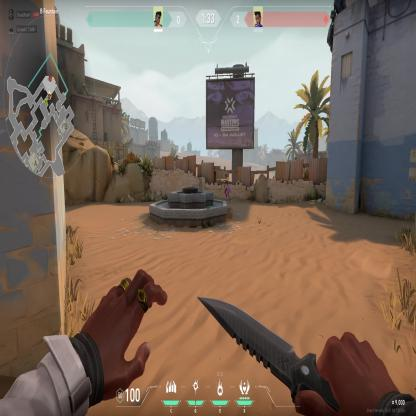enemy: (223, 174, 232, 204)
